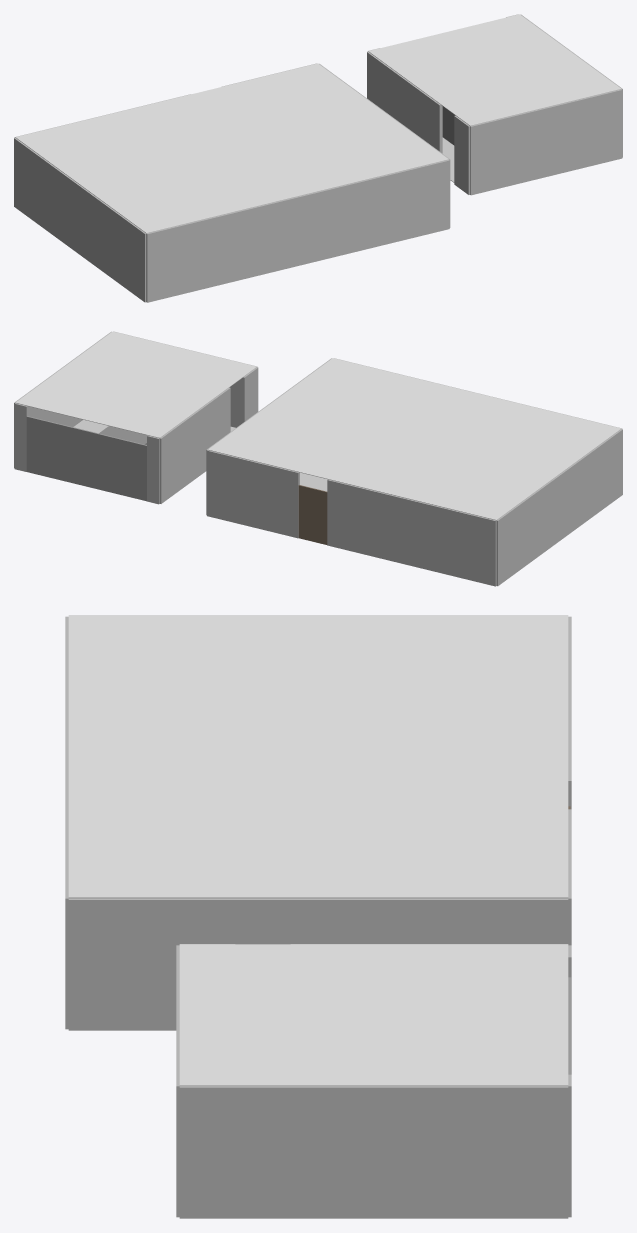
The model's file is demo-home.glb.
3 renders of one model, top to bottom at view 1: azimuth 30°, elevation 25°; view 2: azimuth 150°, elevation 25°; view 3: azimuth 270°, elevation 25°, orthographic. The views are drawn at different scales.
Visible parts, largest first — view 1: wall_2, room_5_2, room_1_2, wall_17, wall_3, room_2_2, room_0_2, room_4_2, room_3_2, wall_18, wall_19, car; view 2: room_5_2, room_1_2, wall_0, wall_3, room_2_2, garage_door, room_0_2, wall_1, room_4_2, wall_18, room_3_2, front_door (+7 smaller); view 3: room_5_2, wall_20, room_1_2, room_2_2, wall_4, room_0_2, room_4_2, room_3_2, wall_2, wall_17.
Boxes of the visible parts, <box> form: wall_2: <box>146,160,449,302</box>; room_5_2: <box>368,14,620,126</box>; room_1_2: <box>142,63,390,159</box>; wall_17: <box>470,89,622,195</box>; wall_3: <box>14,138,146,302</box>; room_2_2: <box>74,149,272,233</box>; room_0_2: <box>15,106,198,179</box>; room_4_2: <box>290,116,448,184</box>; room_3_2: <box>214,141,347,202</box>; wall_18: <box>367,51,442,153</box>; wall_19: <box>454,115,470,194</box>; car: <box>442,106,455,145</box>; room_5_2: <box>15,331,256,438</box>; room_1_2: <box>208,399,445,490</box>; wall_0: <box>327,479,496,586</box>; wall_3: <box>496,429,622,586</box>; room_2_2: <box>432,399,621,479</box>; garage_door: <box>26,416,146,501</box>; room_0_2: <box>376,450,551,520</box>; wall_1: <box>207,450,299,538</box>; room_4_2: <box>277,358,428,421</box>; wall_18: <box>159,387,230,503</box>; room_3_2: <box>374,381,500,439</box>; front_door: <box>298,485,327,544</box>; room_5_2: <box>179,944,568,1086</box>; wall_20: <box>179,1086,568,1218</box>; room_1_2: <box>290,733,568,898</box>; room_2_2: <box>68,615,346,732</box>; wall_4: <box>68,898,568,1030</box>; room_0_2: <box>346,615,568,732</box>; room_4_2: <box>68,803,290,898</box>; room_3_2: <box>68,733,290,803</box>; wall_2: <box>65,616,68,1029</box>; wall_17: <box>176,945,179,1217</box>.
Size of the model in its own units: 20.12 by 2.62 by 9.12.
